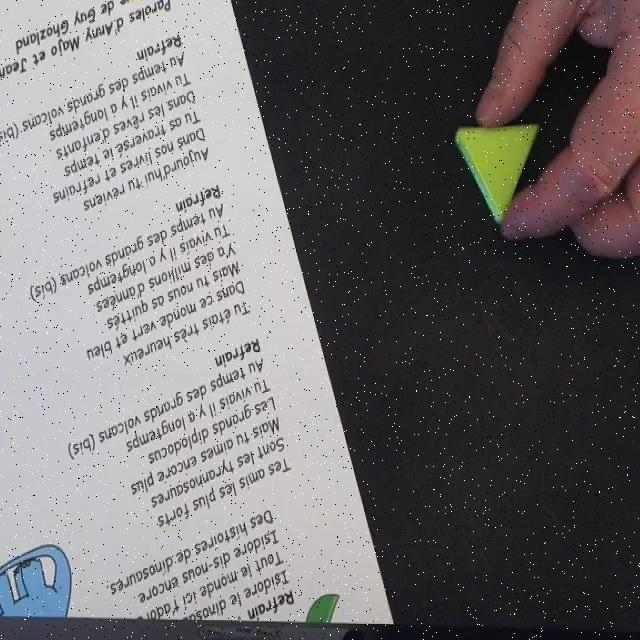triangle: (456, 124, 540, 224)
